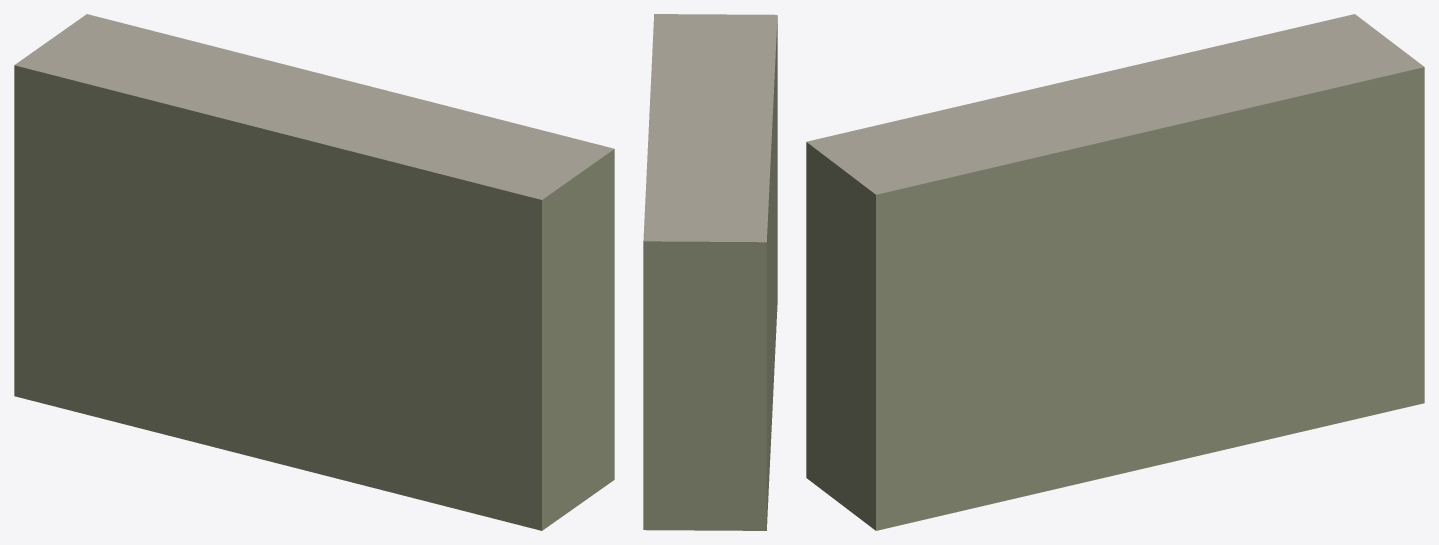
File: nyc-1034266-0.glb
3 views of the same model, side by side, from view 1: azimuth 30°, elevation 25°; view 2: azimuth 150°, elevation 25°; view 3: azimuth 270°, elevation 25° (orthographic). The views are drawn at different scales.
Visible parts, largest first — view 1: nyc-1034266-0; view 2: nyc-1034266-0; view 3: nyc-1034266-0.
Part boxes in pixels (bbox=[...]): nyc-1034266-0: bbox=[14, 14, 614, 530]; nyc-1034266-0: bbox=[643, 14, 777, 530]; nyc-1034266-0: bbox=[806, 14, 1424, 530].
Size of the model in its own units: 17.72 by 15.36 by 25.61.
